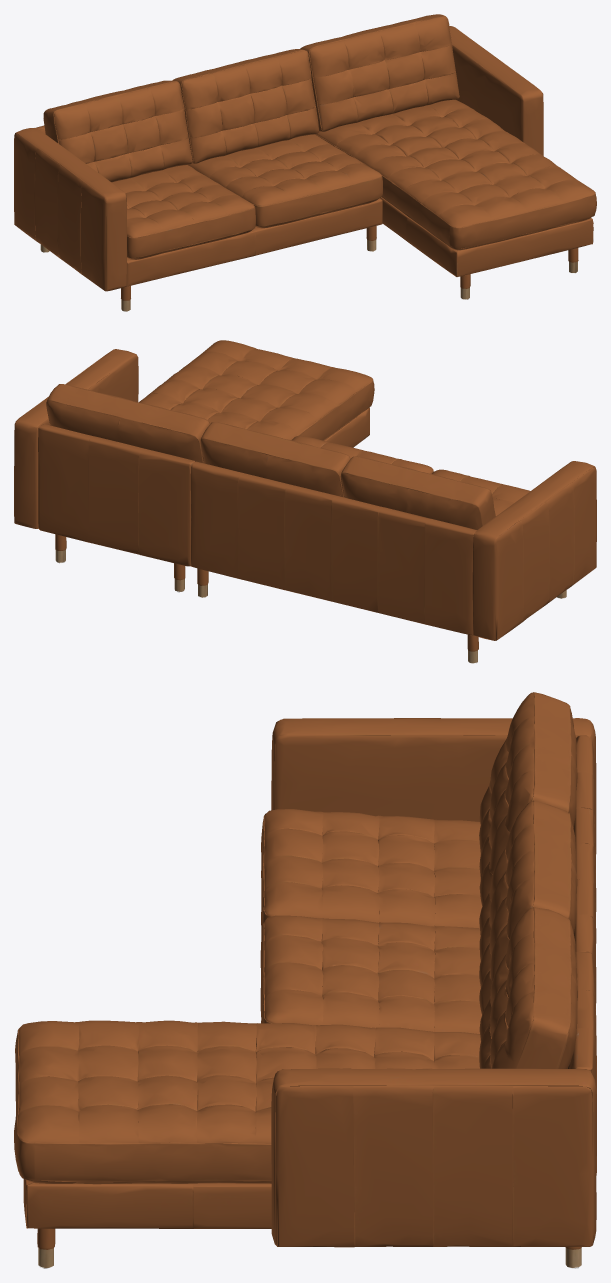
File: 38 - LANDSKRONA 3-seat sofa - with chaise longueGrannBomstad golden-brownwood.glb
3 renders of one model, top to bottom at view 1: azimuth 30°, elevation 25°; view 2: azimuth 150°, elevation 25°; view 3: azimuth 270°, elevation 25°, orthographic. The views are drawn at different scales.
Visible parts, largest first — view 1: Mesh_0; view 2: Mesh_0; view 3: Mesh_0.
Boxes of the visible parts, x1,y1,x2,y2 form: Mesh_0: (14, 14, 596, 311); Mesh_0: (14, 340, 596, 663); Mesh_0: (14, 692, 596, 1268).
Bounding box in the file's own units: 2.42 × 0.7837 × 1.6.
1 material, 1 textured.
